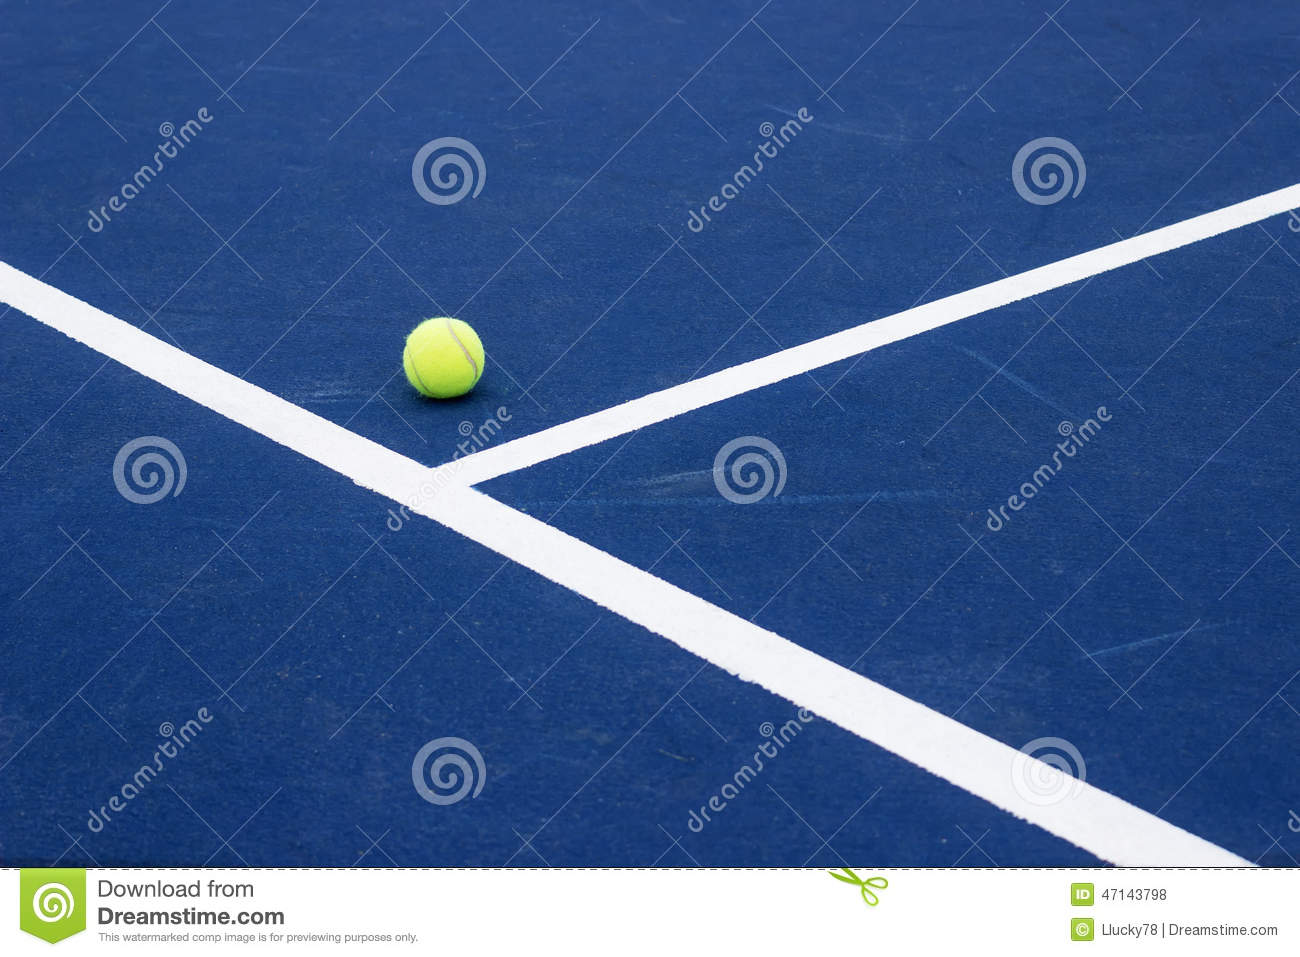tennis_ball: (396, 308, 488, 410)
